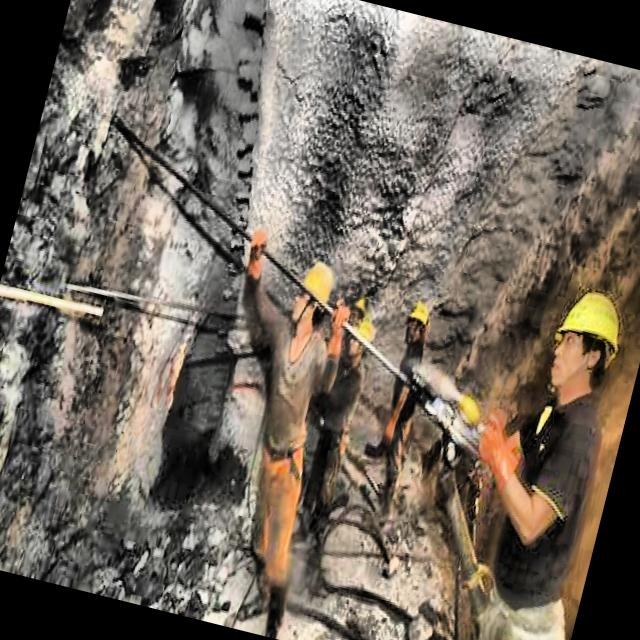helmet: (530, 272, 638, 412), (284, 253, 340, 346), (394, 292, 436, 356), (344, 315, 381, 365), (341, 286, 372, 332)
